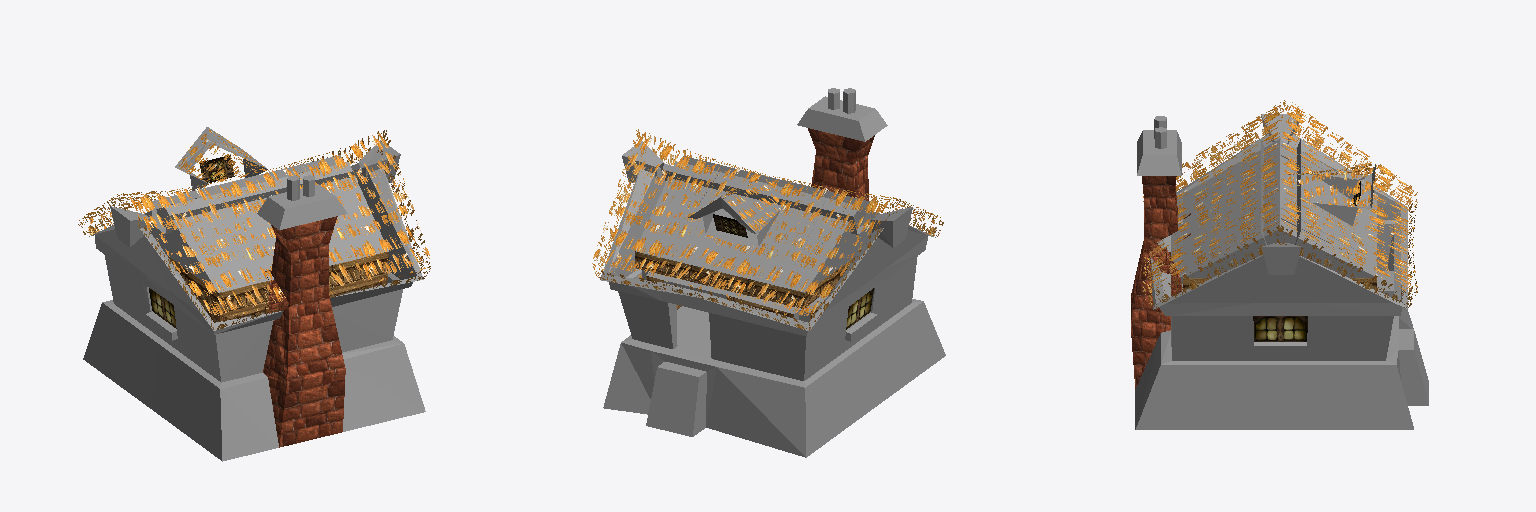
3 renders of one model, left to right at view 1: azimuth 30°, elevation 25°; view 2: azimuth 150°, elevation 25°; view 3: azimuth 270°, elevation 25°, orthographic.
Parts seen in each view (by area): view 1: exterior, interior; view 2: exterior, interior; view 3: exterior, interior.
Boxes of the visible parts, <box> form: exterior: <box>78,127,430,461</box>; interior: <box>145,155,388,322</box>; exterior: <box>592,88,945,457</box>; interior: <box>635,156,879,353</box>; exterior: <box>1131,100,1428,429</box>; interior: <box>1148,139,1376,295</box>.
Bounding box in the file's own units: 18.87 × 16.88 × 18.02.
14 materials, 6 textured.